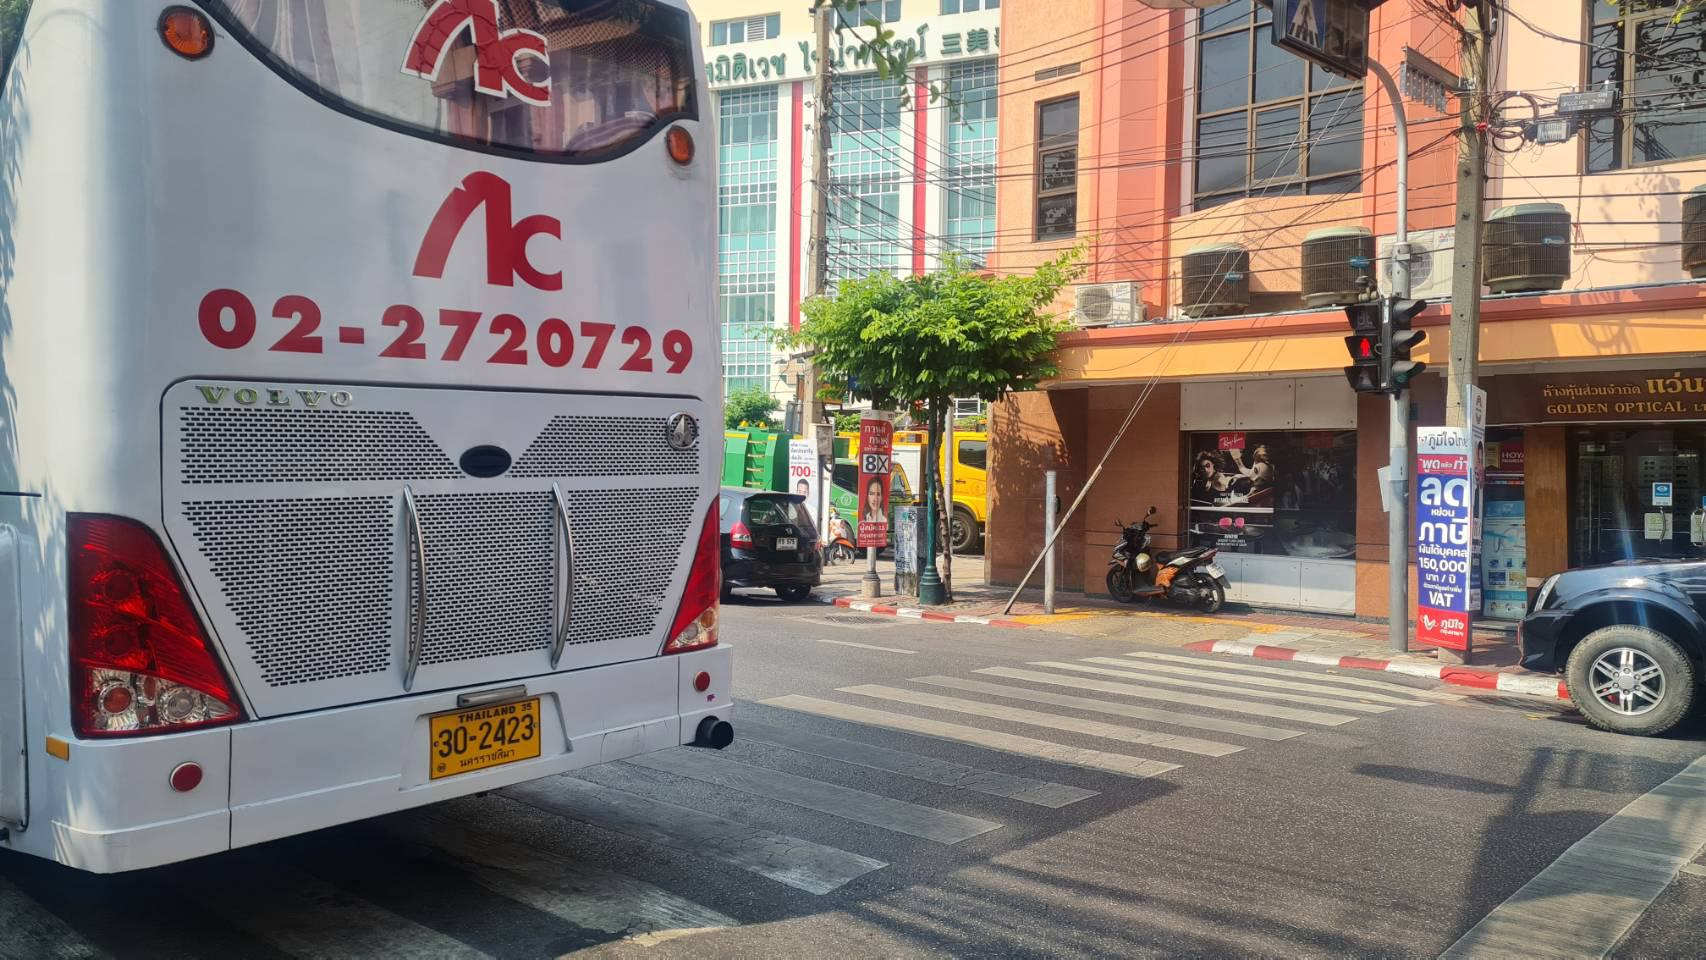Banner: (1400, 433, 1492, 656)
